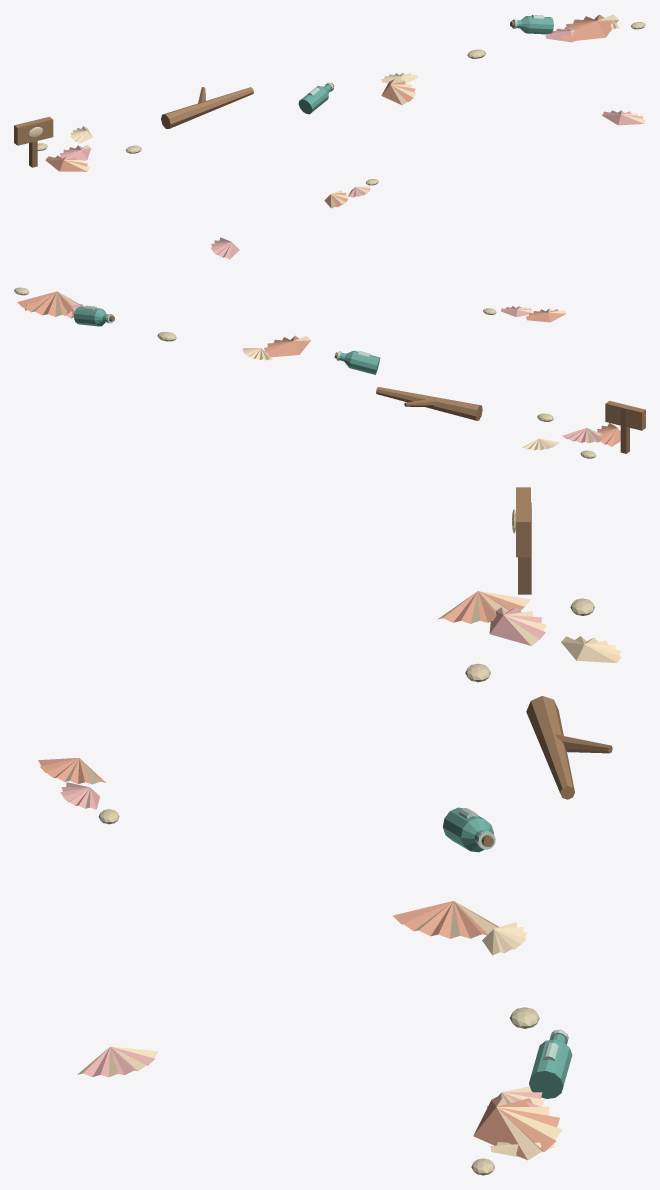
3 renders of one model, top to bottom at view 1: azimuth 30°, elevation 25°; view 2: azimuth 150°, elevation 25°; view 3: azimuth 270°, elevation 25°, orthographic. The views are drawn at different scales.
Parts seen in each view (by area): view 1: Driftwood branch, Scallop shell 10, Beach trail sign, Scallop shell 06, Scallop shell 01, Bottle body, Scallop shell 08, Bottle body.001, Scallop shell 02; view 2: Driftwood branch, Scallop shell 10, Beach trail sign, Scallop shell 06, Bottle body, Scallop shell 02, Scallop shell 08, Beach trail sign post, Scallop shell 01, Scallop shell 04, Bottle body.001; view 3: Scallop shell 10, Scallop shell 06, Driftwood branch, Bottle body.001, Scallop shell 01, Scallop shell 08, Scallop shell 02, Scallop shell 04, Scallop shell 03, Beach trail sign, Scallop shell 07.
Part boxes in pixels (left/top/right/bottom): Driftwood branch: left=161, top=87, right=253, bottom=128; Scallop shell 10: left=561, top=14, right=618, bottom=41; Beach trail sign: left=14, top=116, right=53, bottom=145; Scallop shell 06: left=381, top=79, right=415, bottom=105; Scallop shell 01: left=45, top=155, right=89, bottom=171; Bottle body: left=298, top=86, right=328, bottom=114; Scallop shell 08: left=602, top=110, right=645, bottom=125; Bottle body.001: left=527, top=16, right=553, bottom=34; Scallop shell 02: left=60, top=145, right=90, bottom=160; Driftwood branch: left=376, top=387, right=482, bottom=420; Scallop shell 10: left=17, top=291, right=78, bottom=316; Beach trail sign: left=605, top=401, right=645, bottom=430; Scallop shell 06: left=264, top=335, right=310, bottom=357; Bottle body: left=349, top=350, right=380, bottom=374; Scallop shell 02: left=562, top=428, right=602, bottom=443; Scallop shell 08: left=211, top=237, right=239, bottom=259; Beach trail sign post: left=620, top=407, right=629, bottom=453; Scallop shell 01: left=597, top=423, right=620, bottom=446; Scallop shell 04: left=526, top=308, right=566, bottom=322; Bottle body.001: left=74, top=306, right=100, bottom=326; Scallop shell 10: left=473, top=1097, right=562, bottom=1160; Scallop shell 06: left=393, top=901, right=498, bottom=938; Driftwood branch: left=526, top=696, right=574, bottom=799; Bottle body.001: left=529, top=1039, right=572, bottom=1098; Scallop shell 01: left=438, top=591, right=530, bottom=623; Scallop shell 08: left=77, top=1046, right=157, bottom=1077; Scallop shell 02: left=489, top=607, right=546, bottom=645; Scallop shell 04: left=38, top=758, right=105, bottom=784; Scallop shell 03: left=561, top=636, right=621, bottom=662; Beach trail sign: left=516, top=487, right=530, bottom=557; Scallop shell 07: left=482, top=922, right=526, bottom=955.
Size of the model in its own units: 11.35 by 0.765 by 4.64.
